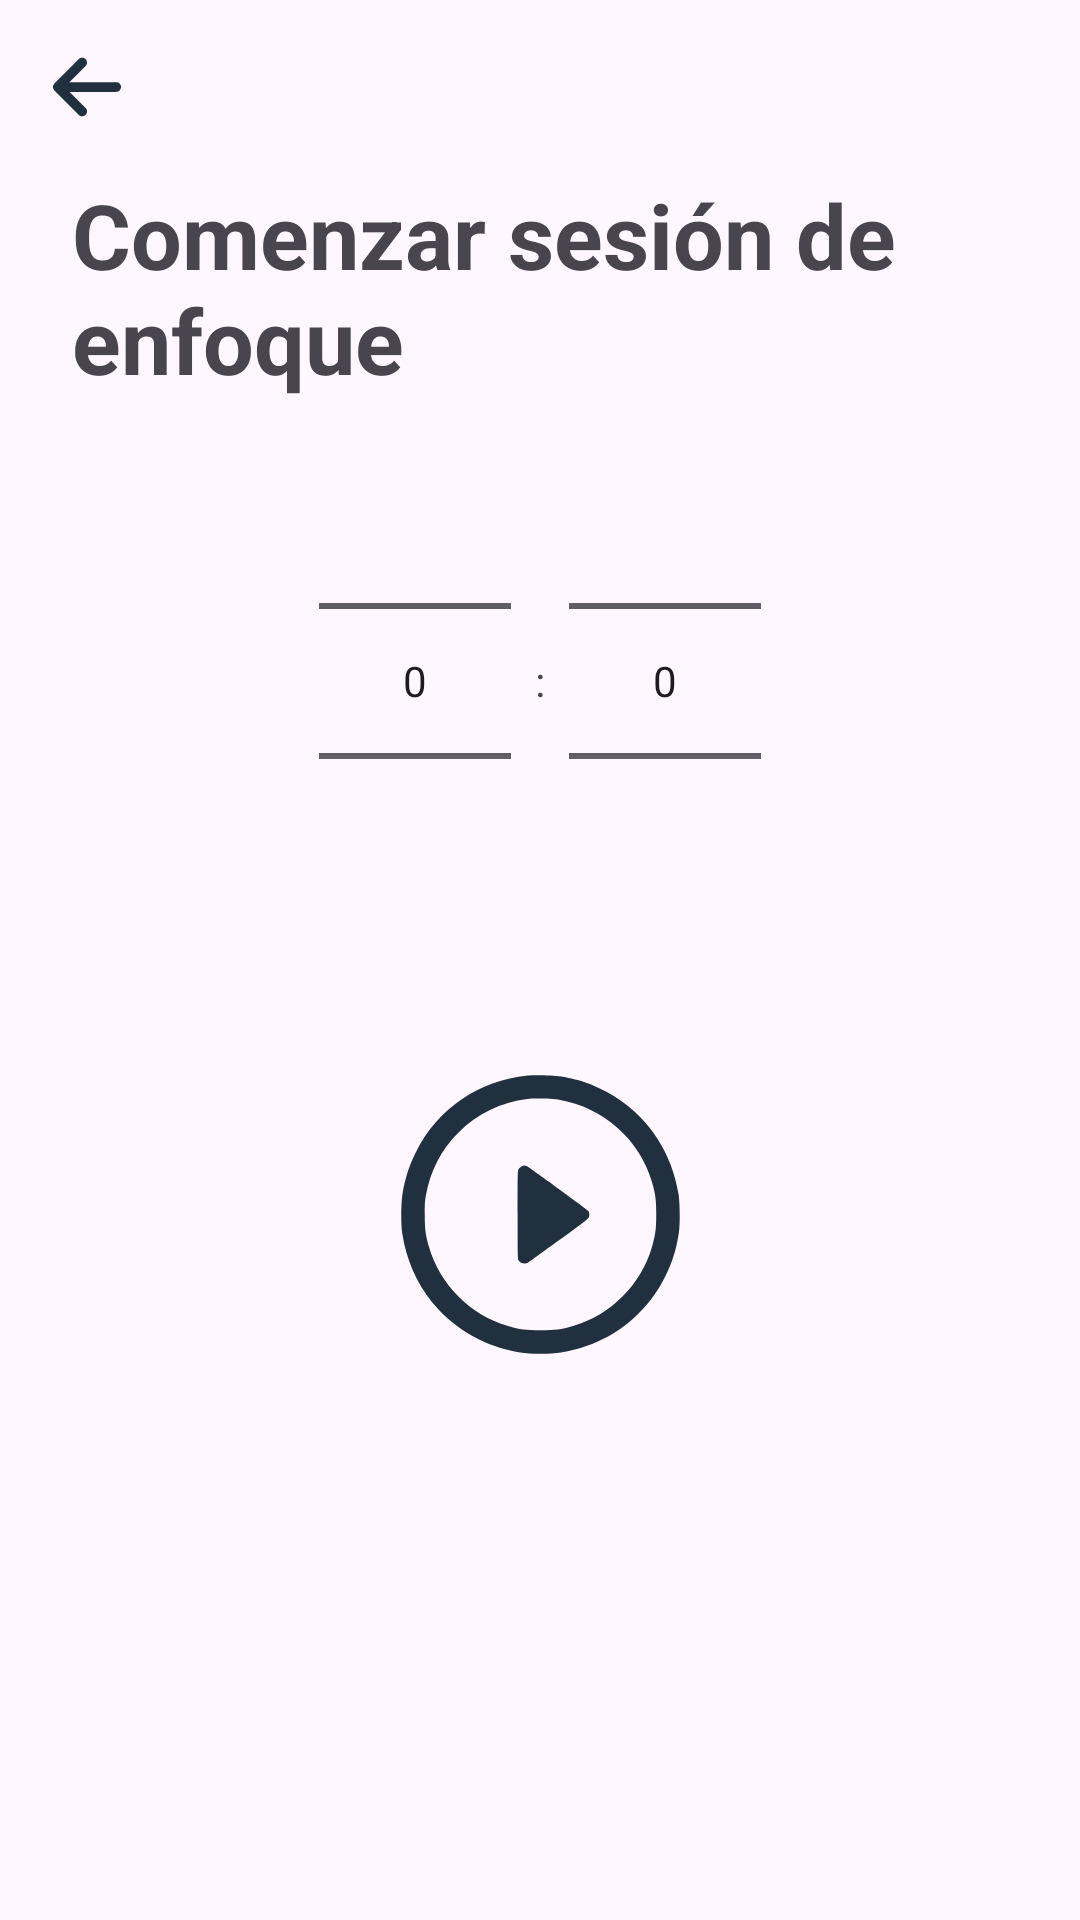

Screen size 1080×1920. Icon name, then its box in pixels as (x1, y1, x2, y2):
go back arrow: (53, 57, 121, 117)
play: (401, 1075, 680, 1354)
